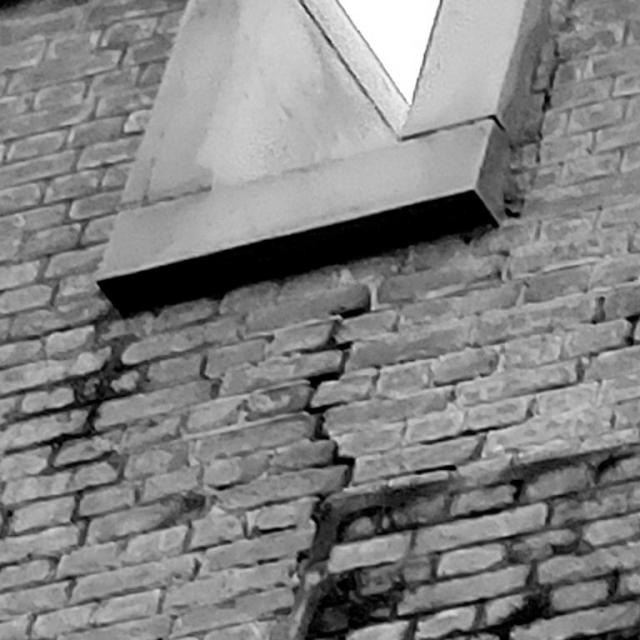crack: (304, 306, 371, 488), (503, 38, 566, 216)
